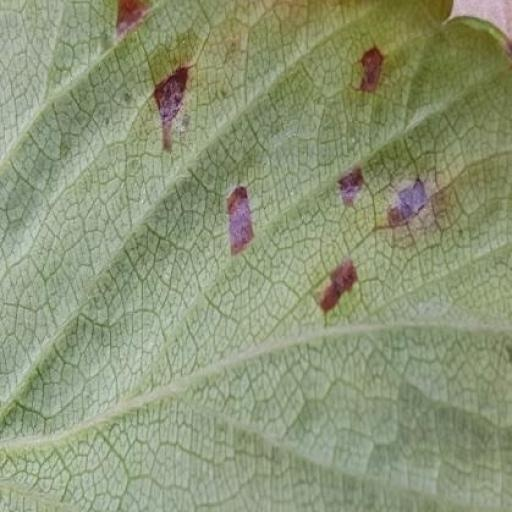Angular Leafspot: (89, 191, 511, 511)
